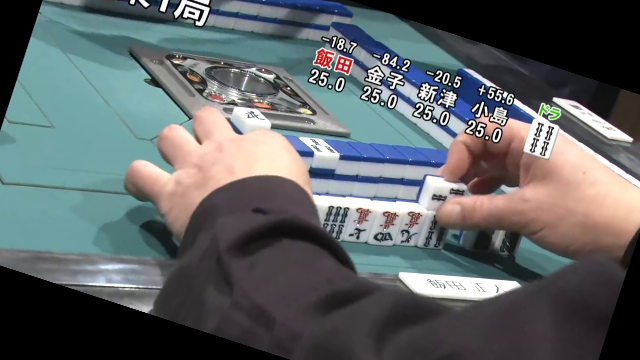Tehai: (311, 189, 459, 254)
